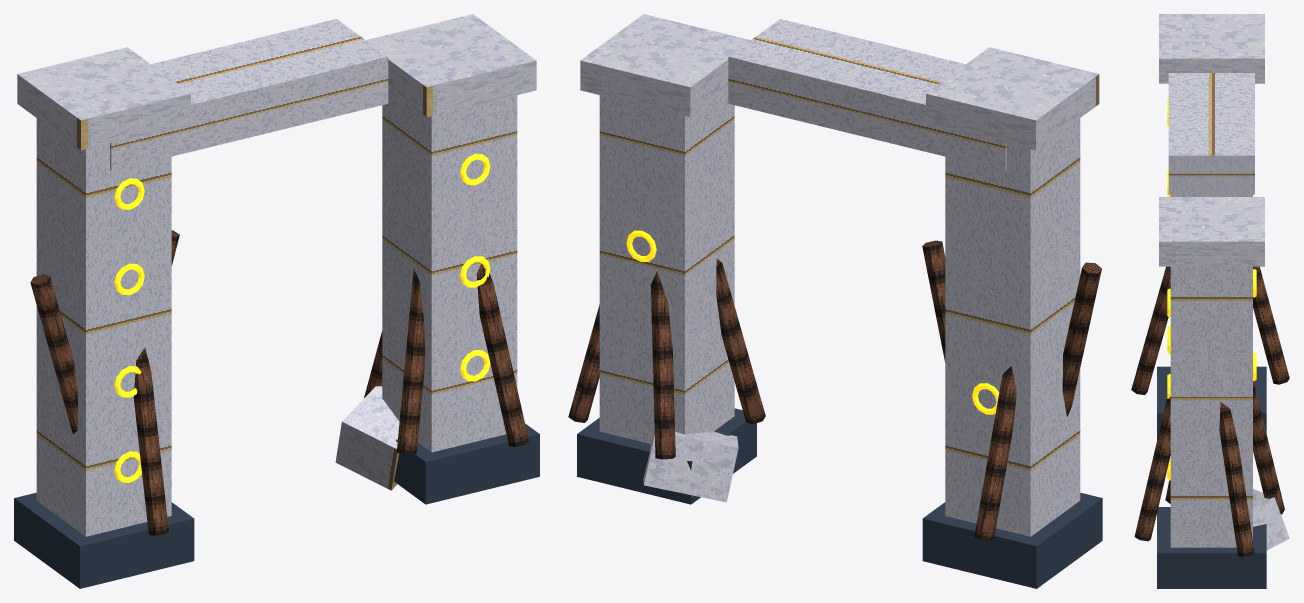
The model's file is arco_ruinas.glb.
3 renders of one model, left to right at view 1: azimuth 30°, elevation 25°; view 2: azimuth 150°, elevation 25°; view 3: azimuth 270°, elevation 25°, orthographic. The views are drawn at different scales.
Visible parts, largest first — view 1: Cube.001, Cube.004, Cube.006, Cube.002, Cube.005, Cube, Cube.003, Cube.007, Cylinder.007, Cylinder.003, Cylinder.006, Cylinder.002; view 2: Cube.001, Cube.004, Cube.006, Cube.002, Cube.005, Cube, Cube.003, Cube.007, Cylinder.005, Cylinder.001, Cylinder.006, Cylinder.002 (+2 smaller); view 3: Cube.004, Cube.006, Cube.005, Cube.002, Cube.003, Cylinder.004, Cylinder.007, Cylinder.003, Cylinder.001, Cylinder.005, Cube.007, Cube (+1 smaller).
Part boxes in pixels (x1=…): Cube.001: x1=36, y1=118, x2=171, y2=536; Cube.004: x1=382, y1=89, x2=517, y2=452; Cube.006: x1=110, y1=19, x2=388, y2=171; Cube.002: x1=17, y1=47, x2=190, y2=150; Cube.005: x1=366, y1=14, x2=536, y2=117; Cube: x1=14, y1=492, x2=194, y2=588; Cube.003: x1=394, y1=423, x2=539, y2=504; Cube.007: x1=335, y1=386, x2=399, y2=490; Cylinder.007: x1=476, y1=263, x2=528, y2=447; Cylinder.003: x1=133, y1=347, x2=168, y2=535; Cylinder.006: x1=396, y1=268, x2=425, y2=454; Cylinder.002: x1=30, y1=274, x2=78, y2=434; Cube.001: x1=945, y1=118, x2=1080, y2=536; Cube.004: x1=599, y1=89, x2=734, y2=443; Cube.006: x1=728, y1=19, x2=1006, y2=171; Cube.002: x1=926, y1=47, x2=1099, y2=150; Cube.005: x1=580, y1=14, x2=750, y2=116; Cube: x1=922, y1=492, x2=1102, y2=588; Cube.003: x1=577, y1=408, x2=756, y2=504; Cube.007: x1=643, y1=428, x2=738, y2=502; Cylinder.005: x1=650, y1=271, x2=675, y2=459; Cylinder.001: x1=974, y1=366, x2=1016, y2=540; Cylinder.006: x1=716, y1=258, x2=765, y2=424; Cylinder.002: x1=1062, y1=262, x2=1101, y2=417; Cube.004: x1=1170, y1=266, x2=1252, y2=547; Cube.006: x1=1168, y1=73, x2=1254, y2=194; Cube.005: x1=1159, y1=197, x2=1264, y2=266; Cube.002: x1=1159, y1=14, x2=1264, y2=83; Cube.003: x1=1157, y1=507, x2=1266, y2=588; Cylinder.004: x1=1219, y1=402, x2=1254, y2=556; Cylinder.007: x1=1134, y1=396, x2=1170, y2=541; Cylinder.003: x1=1131, y1=266, x2=1170, y2=394; Cylinder.001: x1=1253, y1=266, x2=1289, y2=384; Cylinder.005: x1=1253, y1=381, x2=1284, y2=514; Cube.007: x1=1253, y1=489, x2=1289, y2=550; Cube: x1=1157, y1=366, x2=1266, y2=439.
Bounding box in the file's own units: 6.16 × 5.59 × 2.02.
4 materials, 2 textured.
